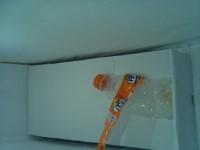bottle: (89, 67, 178, 126)
